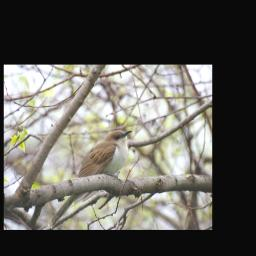Cuckoo: (47, 130, 133, 230)
